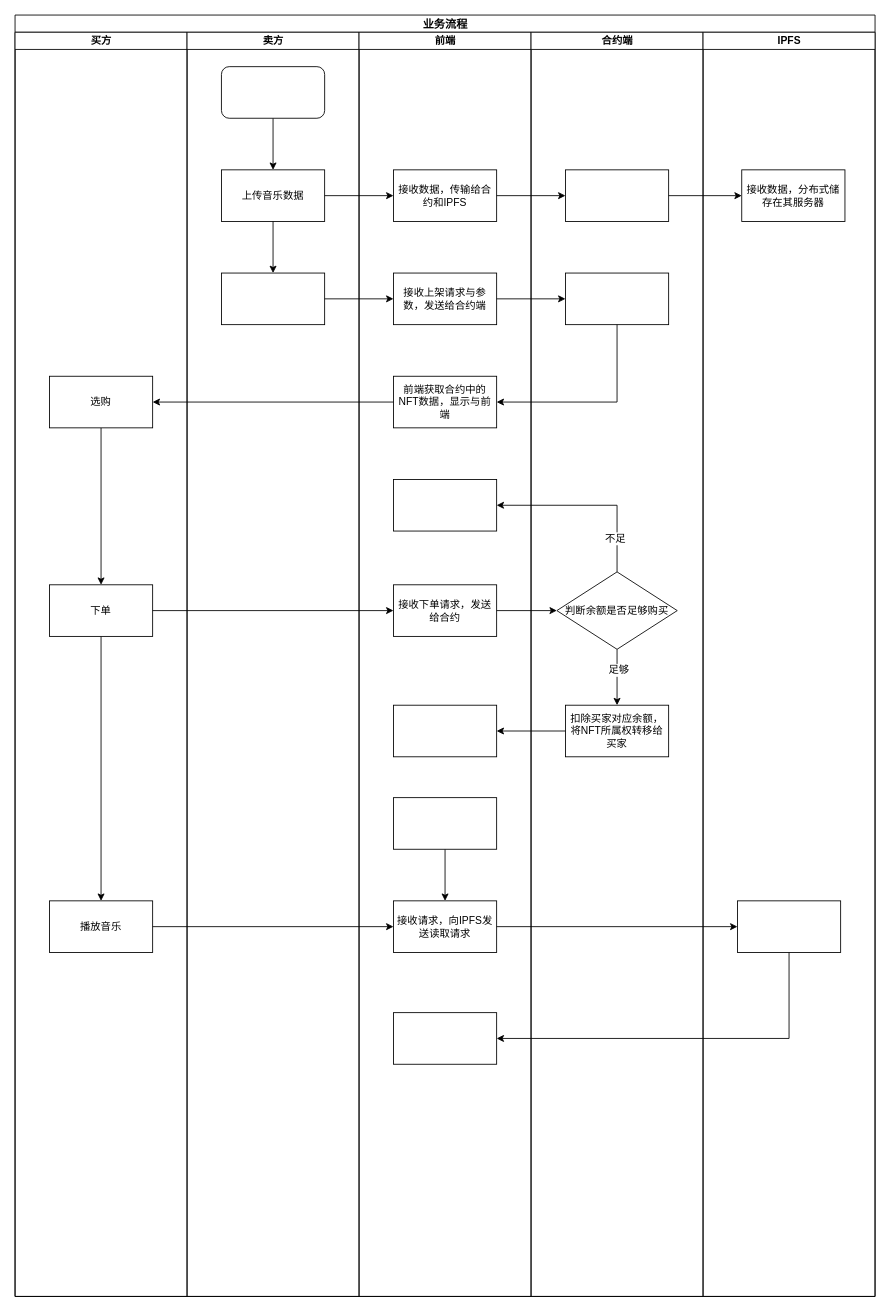
Some shapes in this 890 by 1312 pixel diagram are drawn without their labels. Here are the shapes that lost their labels. From the top down, the centre of each, then its label:
At (273,92): "开始".
At (617,195): "接收前端请求，铸造NFT".
At (273,298): "上架音乐，设置价格".
At (617,298): "接收请求，将NFT状态改为上架状态".
At (445,505): "显示余额不足交易失败".
At (445,730): "显示交易成功".
At (445,823): "前端实现播放功能，可以播放在IPFS中储存的音乐文件".
At (789,926): "接收前端请求，返回指定音乐文件".
At (445,1038): "前端接收文件并播放".
